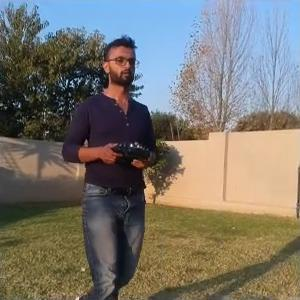follow: (56, 24, 165, 299)
